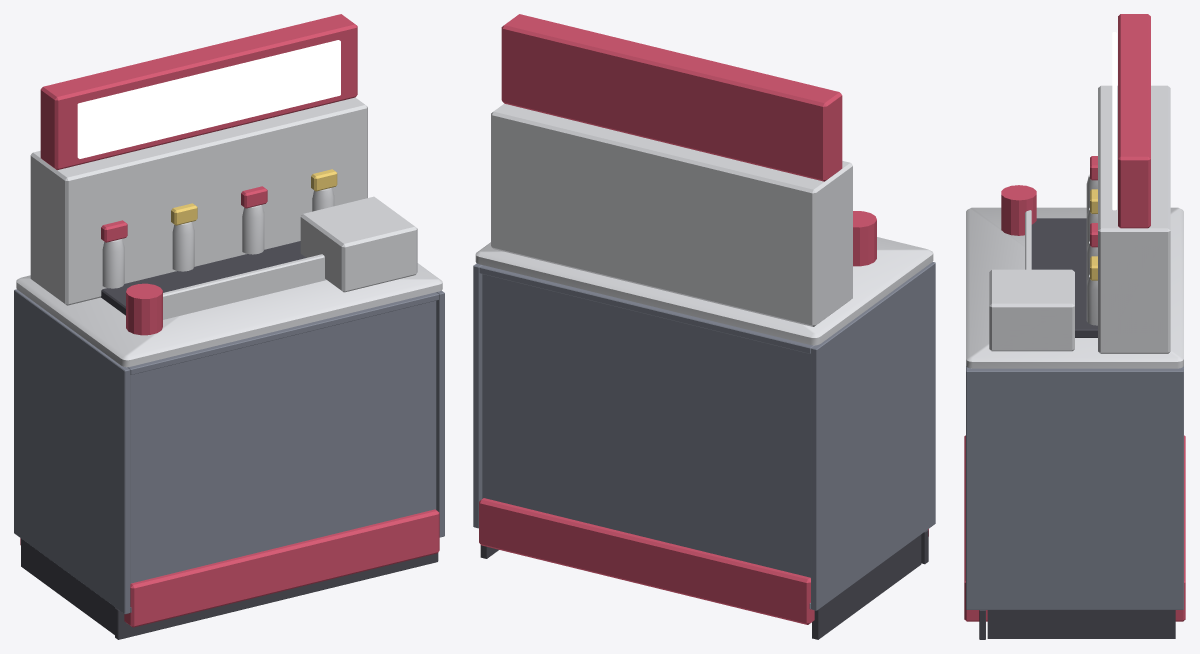
File: cinema-multiplex-and-foyer-drinks-dispenser-bank-5ab89b48.glb
The picture shows the model from 3 angles, left to right: view 1: azimuth 30°, elevation 25°; view 2: azimuth 150°, elevation 25°; view 3: azimuth 270°, elevation 25°; orthographic projection. The views are drawn at different scales.
Parts seen in each view (by area): view 1: drinks-dispenser-bank, dispenser-flap/metal; view 2: drinks-dispenser-bank; view 3: drinks-dispenser-bank, dispenser-flap/metal.
Part boxes in pixels (<box>): drinks-dispenser-bank: <box>14,14,444,639</box>; dispenser-flap/metal: <box>163,254,326,319</box>; drinks-dispenser-bank: <box>473,14,935,639</box>; drinks-dispenser-bank: <box>964,14,1185,639</box>; dispenser-flap/metal: <box>1025,210,1031,269</box>.
Bounding box in the file's own units: 1.1 × 1.6 × 0.6719.
